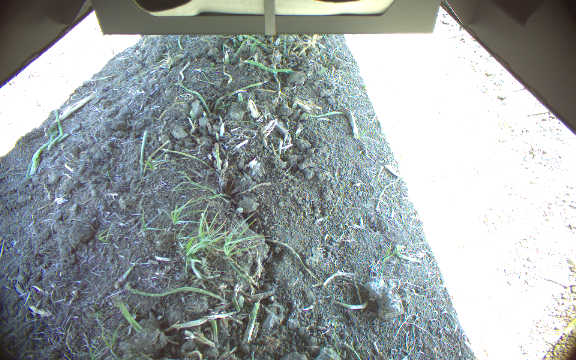aspa: (112, 296, 143, 335)
